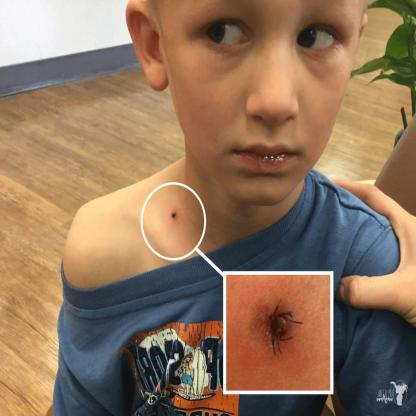Tick: (246, 290, 292, 364)
